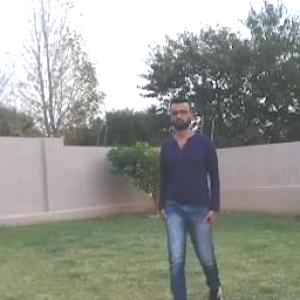follow: (158, 103, 216, 299)
